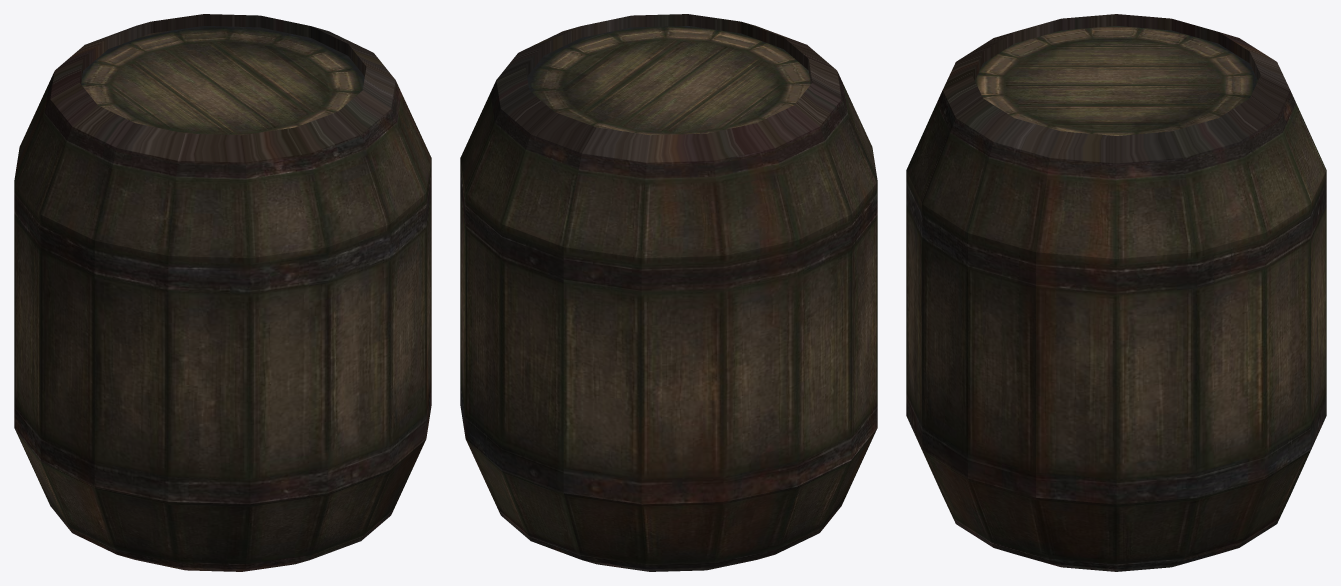
The model's file is Barril_V1.fbx.
3 views of the same model, side by side, from view 1: azimuth 30°, elevation 25°; view 2: azimuth 150°, elevation 25°; view 3: azimuth 270°, elevation 25° (orthographic).
Parts seen in each view (by area): view 1: Cylinder; view 2: Cylinder; view 3: Cylinder.
Boxes of the visible parts, <box> form: Cylinder: <box>14,14,431,571</box>; Cylinder: <box>460,14,877,571</box>; Cylinder: <box>906,14,1326,571</box>.
Bounding box in the file's own units: 276 × 316 × 276.
1 material, 1 textured.
